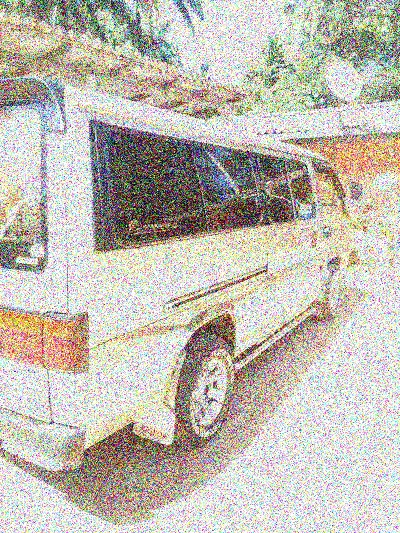van: (1, 79, 354, 470)
